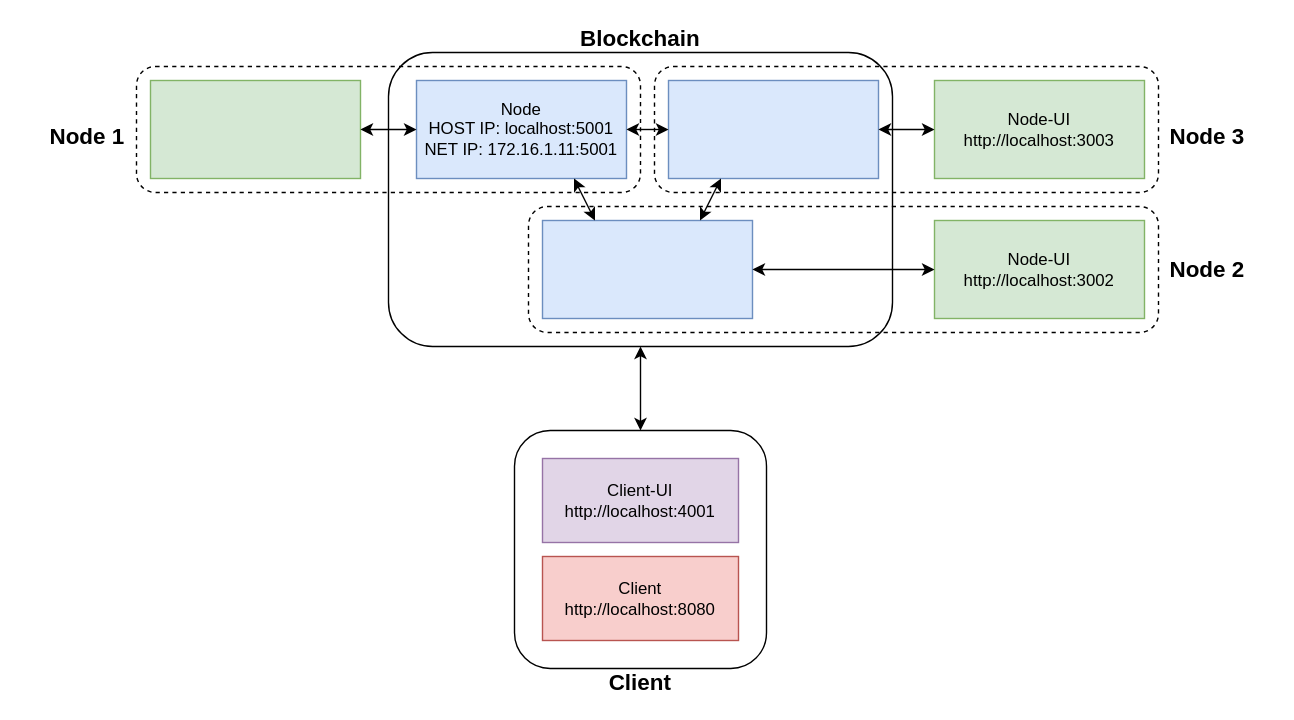
The diagram is 1294 pixels wide and 720 high, and some of its shapes have lost their labels. Each missing label, with the box of its shape:
Node HOST IP: localhost:5002 NET IP: 172.16.1.12:5001: (541, 219, 752, 318)
Node HOST IP: localhost:5003 NET IP: 172.16.1.13:5001: (667, 79, 878, 178)
Node-UI http://localhost:3001: (149, 79, 360, 178)
